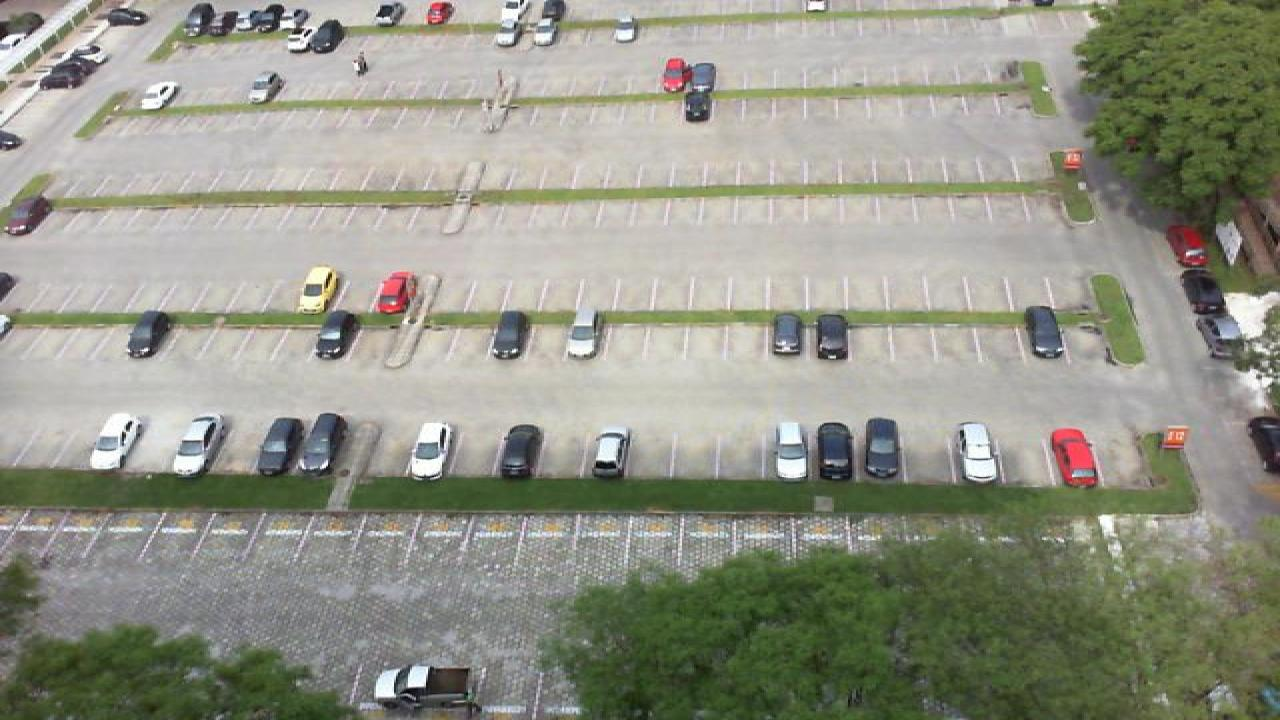Car: (374, 662, 480, 708), (170, 414, 224, 478), (296, 412, 350, 474), (1050, 426, 1102, 488), (88, 412, 142, 471), (254, 415, 306, 475), (406, 422, 456, 480), (958, 421, 1000, 486), (498, 423, 544, 480), (862, 417, 902, 480), (310, 309, 358, 360), (770, 422, 812, 480), (1022, 305, 1066, 360), (124, 309, 172, 359), (590, 425, 634, 479), (488, 309, 532, 361), (816, 422, 854, 481), (296, 266, 340, 316), (1182, 269, 1228, 316), (1244, 414, 1280, 474), (564, 309, 604, 361), (1166, 224, 1212, 269), (374, 270, 418, 315), (1196, 314, 1244, 355), (2, 199, 52, 236), (814, 314, 850, 361), (770, 315, 802, 358), (248, 71, 286, 106), (660, 57, 694, 94), (136, 82, 180, 110), (184, 3, 218, 36), (302, 26, 342, 54), (492, 16, 528, 47), (686, 61, 718, 93), (38, 65, 80, 89), (682, 90, 712, 123), (372, 1, 406, 28), (252, 6, 288, 31), (284, 4, 312, 33), (532, 17, 560, 46), (424, 1, 452, 27), (74, 40, 110, 60), (538, 0, 568, 24), (106, 10, 150, 26), (614, 14, 638, 42), (220, 10, 244, 37), (58, 56, 92, 75)
